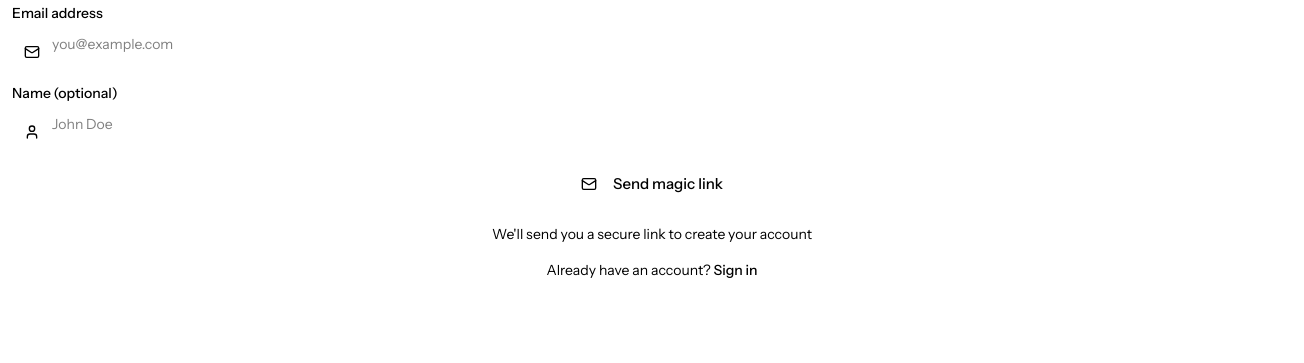
Test: SignupForm — magic link only › surfaces an error when sending the link fails
Type "new@example.com" into the field labelled "Email address". click: coordinates (652, 44)
box: [12,24,1292,64]
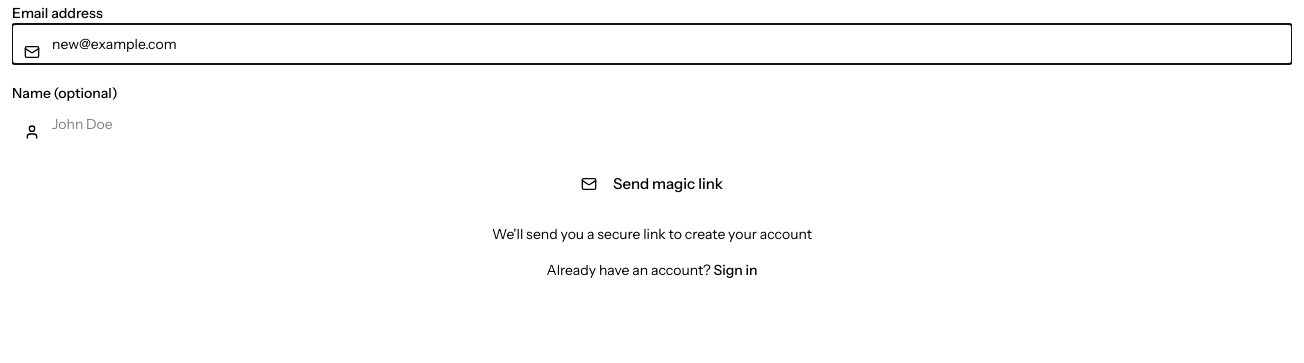
Click the button "Send magic link". click: coordinates (652, 184)
box: [12,160,1292,208]
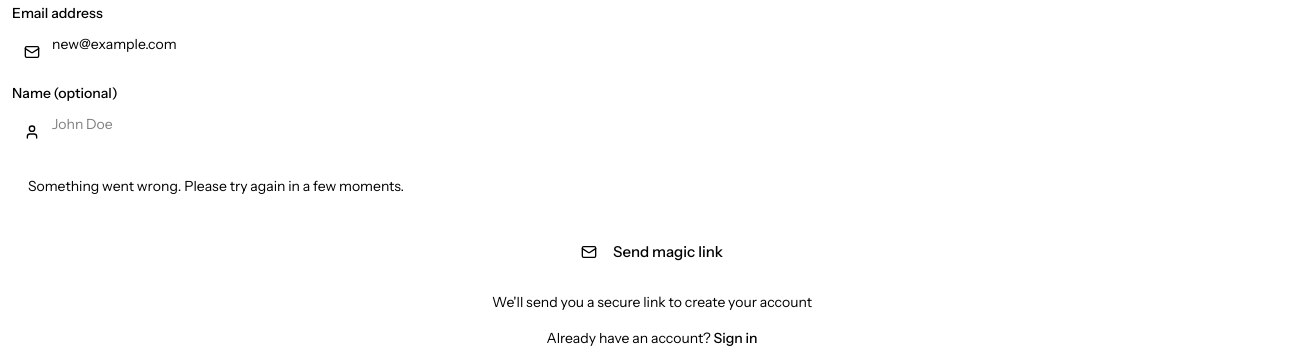
Check: the message "Something went wrong. Please try again in a few moments." is shown, box [28,177,404,195]
